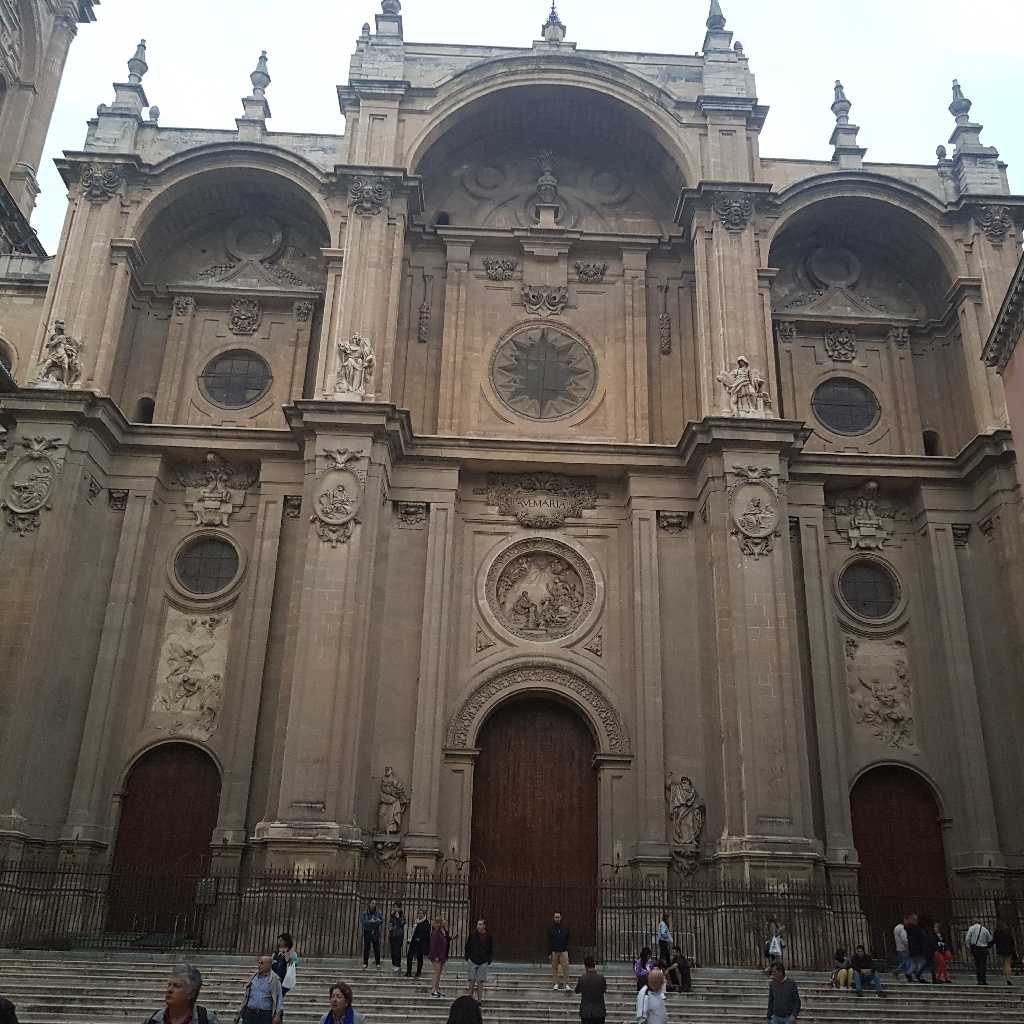arco-medio-punto: (398, 79, 708, 232), (119, 154, 340, 286), (760, 189, 980, 309), (462, 681, 613, 789), (850, 756, 955, 842), (111, 738, 222, 807)
ojo-de-buey: (192, 340, 279, 412), (803, 369, 888, 438), (831, 552, 907, 624), (169, 529, 244, 599)
